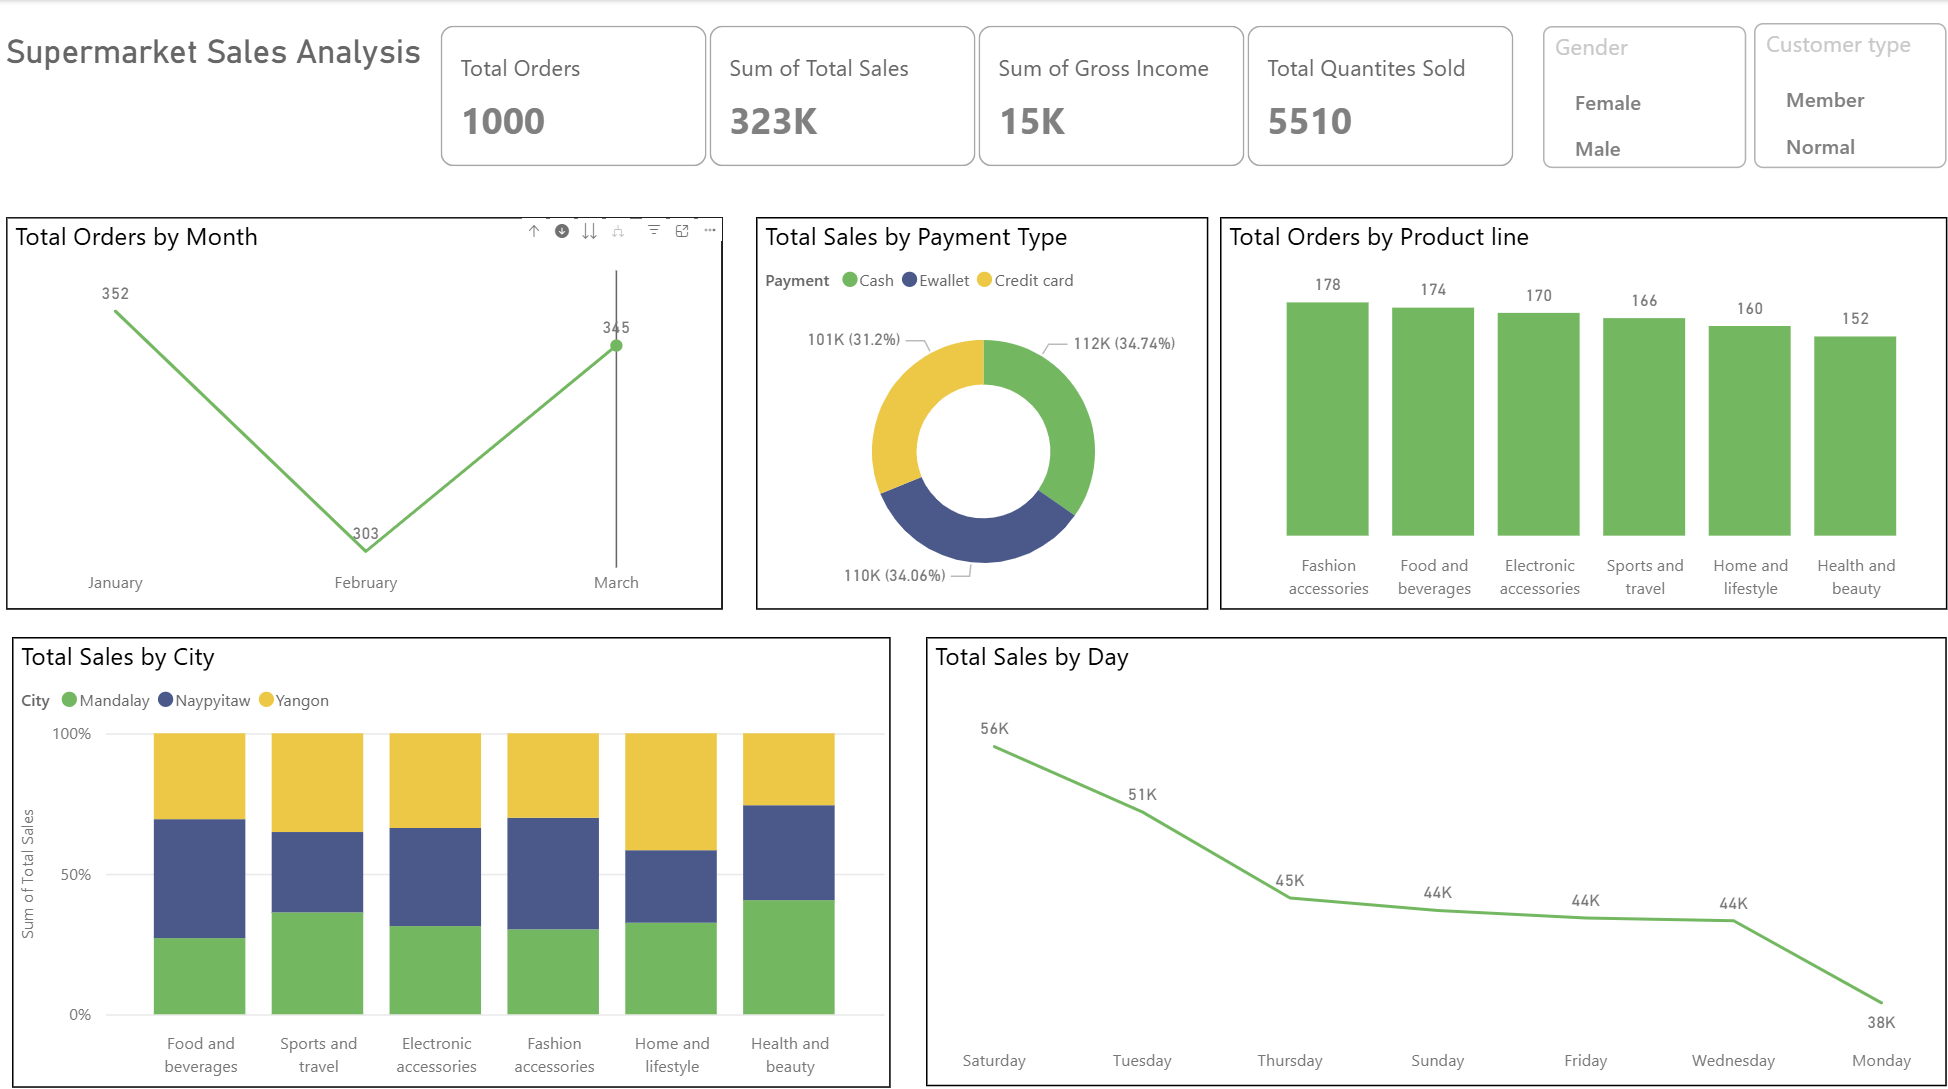

The dashboard page shown, as its layout file describes it:
{"tool":"powerbi","page":{"name":"Page 1","canvas":[1280,720],"ordinal":0},"visuals":[{"type":"lineChart","fields":{"Category":["Supermarket_Sales.Date.Variation.Date Hierarchy.Year","Supermarket_Sales.Date.Variation.Date Hierarchy.Quarter","Supermarket_Sales.Date.Variation.Date Hierarchy.Month","Supermarket_Sales.Date.Variation.Date Hierarchy.Day"],"Y":["_Measures.Total Orders"]},"box":[5.2,142,469.2,235.6],"z":0},{"type":"hundredPercentStackedColumnChart","title":"Total Sales by City","fields":{"Category":["Supermarket_Sales.Product line"],"Y":["_Measures.Sum of Total Sales"],"Series":["Supermarket_Sales.City"]},"box":[9.3,416.7,575.3,294.7],"z":1000},{"type":"donutChart","title":"Total Sales by Payment Type","fields":{"Category":["Supermarket_Sales.Payment"],"Y":["_Measures.Sum of Total Sales"]},"box":[496,142,303.6,251.9],"z":2000},{"type":"advancedSlicerVisual","fields":{"Values":["Supermarket_Sales.Gender"]},"box":[1007.1,16.4,132.8,92.9],"z":3000},{"type":"lineChart","title":"Total Sales by Day","fields":{"Y":["_Measures.Sum of Total Sales"],"Category":["Supermarket_Sales.Day Name"]},"box":[602.7,448.9,672.7,270.9],"z":4000},{"type":"cardVisual","fields":{"Data":["_Measures.Total Orders","_Measures.Sum of Total Sales","_Measures.Sum of Gross Income","_Measures.Total Quantites Sold"]},"box":[284.7,11.8,715.9,102.1],"z":5000},{"type":"advancedSlicerVisual","fields":{"Values":["Supermarket_Sales.Customer type"]},"box":[1149.1,15.1,126.3,94.9],"z":6000},{"type":"textbox","box":[0,16.4,284.7,58.9],"z":7000},{"type":"clusteredColumnChart","fields":{"Y":["_Measures.Total Orders"],"Category":["Supermarket_Sales.Product line"]},"box":[791.8,164.9,483.6,261.8],"z":8000}]}

Visuals, with their boxes in screenshot pixels (x1, y1, x2, y2), scaled from the page's 1280x720 canvas onto the 1948x1089 screenshot:
lineChart - Supermarket_Sales.Date.Variation.Date Hierarchy.Year x Supermarket_Sales.Date.Variation.Date Hierarchy.Quarter: bbox=(8, 215, 722, 571)
"Total Sales by City" hundredPercentStackedColumnChart: bbox=(14, 630, 890, 1076)
"Total Sales by Payment Type" donutChart: bbox=(755, 215, 1217, 596)
advancedSlicerVisual - Supermarket_Sales.Gender: bbox=(1533, 25, 1735, 165)
"Total Sales by Day" lineChart: bbox=(917, 679, 1941, 1088)
cardVisual - _Measures.Total Orders x _Measures.Sum of Total Sales: bbox=(433, 18, 1523, 172)
advancedSlicerVisual - Supermarket_Sales.Customer type: bbox=(1749, 23, 1941, 166)
textbox: bbox=(0, 25, 433, 114)
clusteredColumnChart - _Measures.Total Orders x Supermarket_Sales.Product line: bbox=(1205, 249, 1941, 645)
